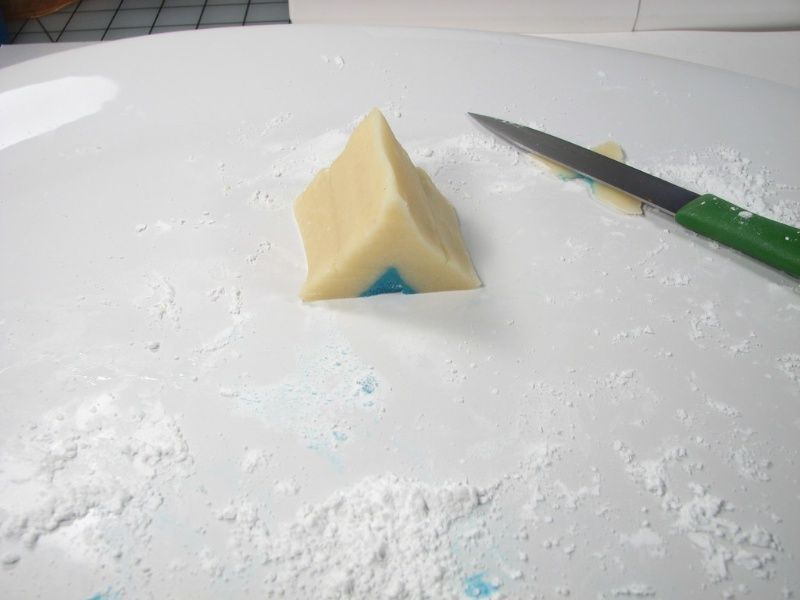knife: (469, 108, 800, 285)
